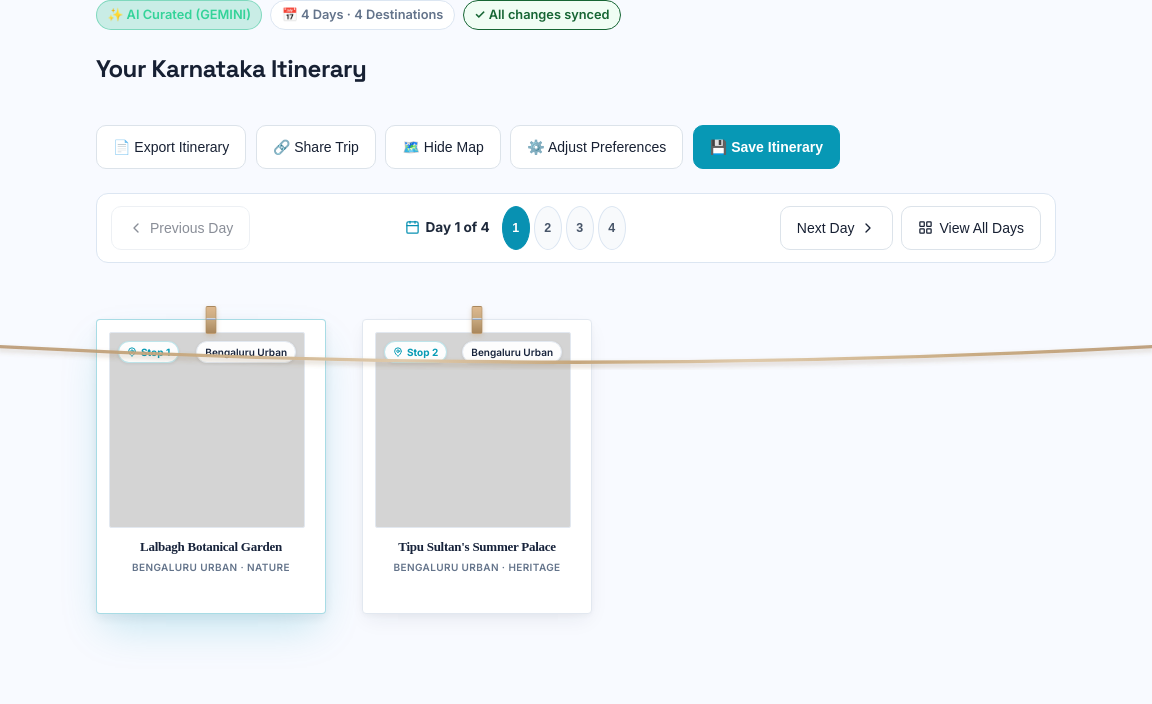
Test: Interactive Day-Wise Itinerary Redesign Experience › renders daily budget summary, overnight stay card, and verified cultural events in detailed view
The image size is (1152, 704).
Note: Switch to Day 2 (Mysuru) via quick day jump chip
Click the button with test id "quick-day-jump-2" at (548, 228), box 534,206 -> 562,250
(page scrolled)
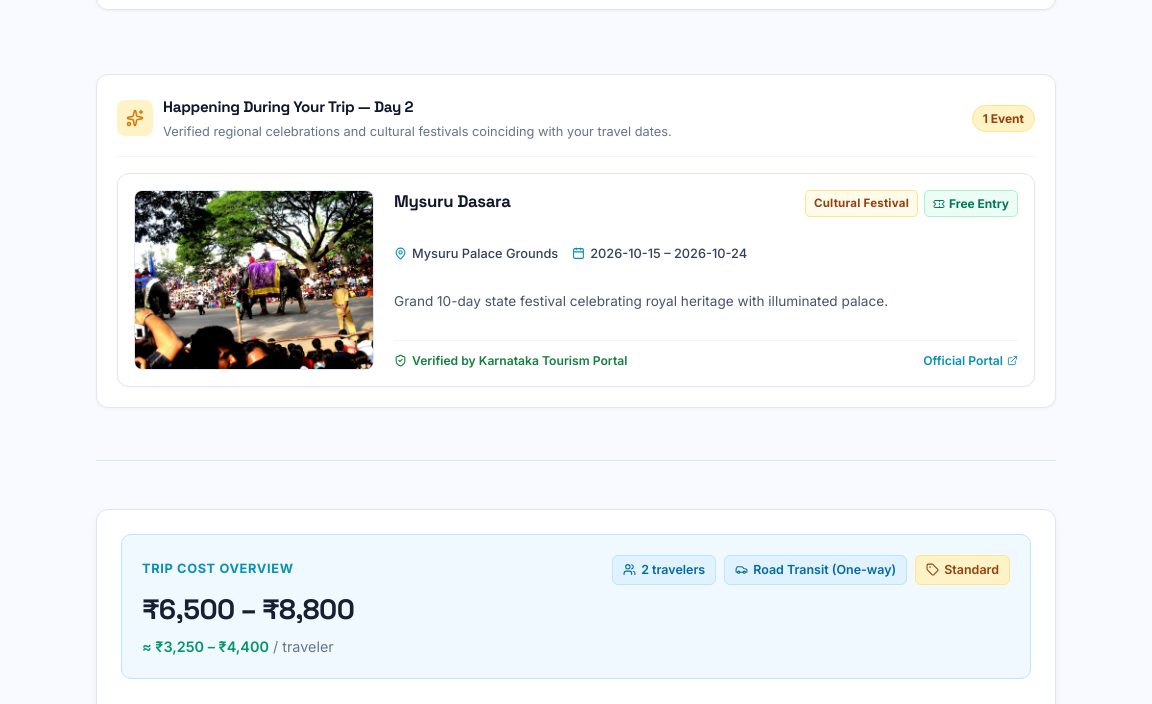
expect the heading "Mysuru Dasara" is shown: met, box 394,190 -> 510,212
expect the element with test id "day-events-section-day-2" is shown: met, box 96,74 -> 1056,408
